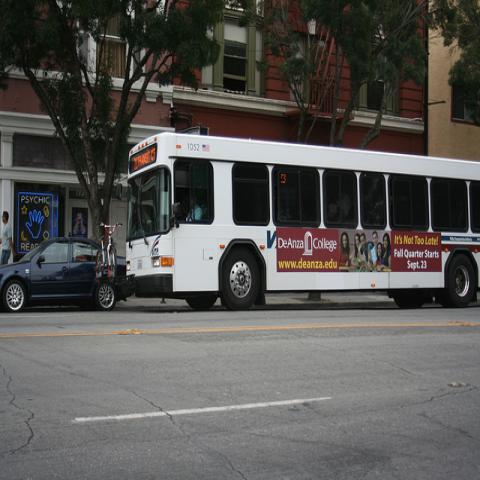bus: (124, 132, 479, 314)
car: (1, 234, 126, 312)
